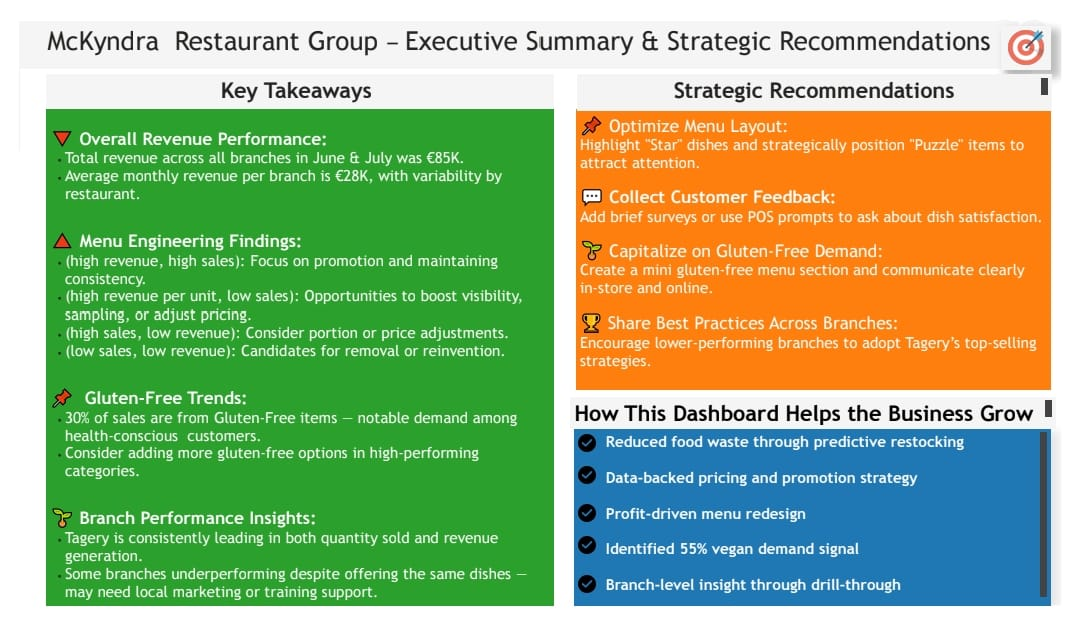

Layout of this report page (visuals, bound fields, positions):
{"tool":"powerbi","page":{"name":"Menu Insights & Strategic Actions","canvas":[1280,720],"ordinal":8},"visuals":[{"type":"shape","box":[1188.2,0,78.5,77.2],"z":0},{"type":"textbox","box":[0,2.7,1228.1,58.5],"z":1000},{"type":"textbox","box":[33.3,110.4,622.7,609.4],"z":2000},{"type":"image","box":[1205.5,8,61.2,53.2],"z":3000},{"type":"textbox","box":[681.3,501.6,585.5,218.2],"z":4000},{"type":"image","box":[681.3,628,30.6,34.6],"z":5000},{"type":"image","box":[681.3,501.6,30.6,34.6],"z":6000},{"type":"image","box":[681.3,675.9,30.6,34.6],"z":7000},{"type":"image","box":[681.3,589.5,30.6,34.6],"z":8000},{"type":"image","box":[681.3,541.6,30.6,34.6],"z":9000},{"type":"textbox","box":[675.9,463,597.4,38.6],"z":10000},{"type":"textbox","box":[33.3,66.5,622.7,43.9],"z":11000},{"type":"textbox","box":[682.6,110.4,584.1,343.3],"z":12000},{"type":"textbox","box":[683.9,66.5,584.1,45.2],"z":13000}]}

Visuals, with their boxes in screenshot pixels (x1, y1, x2, y2), scaled from the page's 1280x720 canvas onto the 1080x624 screenshot:
shape: (left=1003, top=0, right=1069, bottom=67)
textbox: (left=0, top=2, right=1036, bottom=53)
textbox: (left=28, top=96, right=554, bottom=623)
image: (left=1017, top=7, right=1069, bottom=53)
textbox: (left=575, top=435, right=1069, bottom=623)
image: (left=575, top=544, right=601, bottom=574)
image: (left=575, top=435, right=601, bottom=465)
image: (left=575, top=586, right=601, bottom=616)
image: (left=575, top=511, right=601, bottom=541)
image: (left=575, top=469, right=601, bottom=499)
textbox: (left=570, top=401, right=1074, bottom=435)
textbox: (left=28, top=58, right=554, bottom=96)
textbox: (left=576, top=96, right=1069, bottom=393)
textbox: (left=577, top=58, right=1070, bottom=97)
